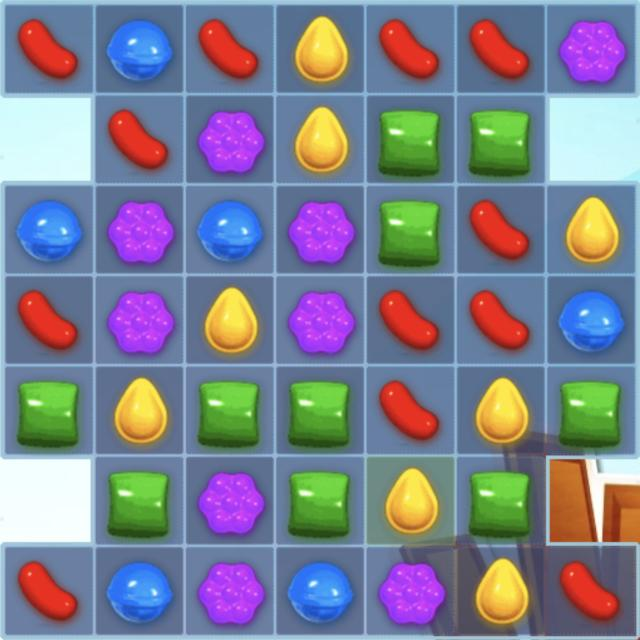blue: (2, 183, 94, 275), (95, 1, 185, 95), (96, 545, 184, 637), (185, 187, 276, 275), (277, 547, 366, 636), (548, 275, 635, 365)
green: (365, 184, 457, 275), (548, 366, 638, 458), (456, 95, 547, 185), (94, 455, 184, 545), (2, 367, 94, 455), (457, 456, 546, 546), (364, 96, 455, 184), (277, 456, 365, 546), (277, 367, 364, 456), (186, 368, 276, 454)
purple: (545, 2, 639, 96), (186, 546, 276, 638), (184, 94, 274, 185), (186, 456, 276, 546), (366, 546, 456, 636), (92, 275, 182, 364), (277, 275, 366, 365), (275, 186, 366, 274), (94, 188, 185, 274)
red: (1, 274, 95, 366), (456, 1, 546, 95), (3, 2, 94, 93), (366, 2, 456, 94), (92, 95, 185, 183), (368, 275, 457, 366), (186, 1, 274, 93), (456, 186, 546, 274), (547, 546, 635, 636), (457, 276, 546, 364), (367, 365, 455, 454), (5, 547, 92, 637)
yellow: (366, 455, 456, 548), (456, 365, 546, 457), (276, 95, 366, 185), (94, 365, 184, 455), (548, 185, 637, 275), (457, 547, 546, 637), (185, 276, 275, 364), (278, 2, 364, 94)
